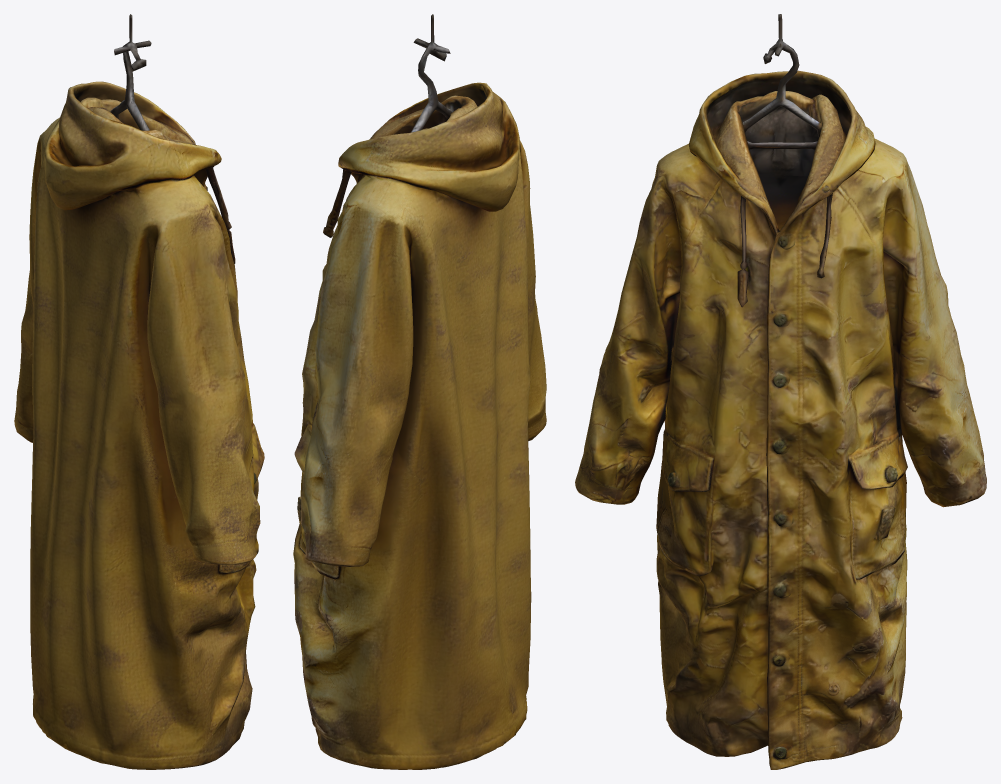
The model's file is scene-coat-raincoat-v03.glb.
3 renders of one model, left to right at view 1: azimuth 30°, elevation 25°; view 2: azimuth 150°, elevation 25°; view 3: azimuth 270°, elevation 25°, orthographic.
Parts seen in each view (by area): view 1: tripo_node_bc3d7e21-a105-46a8-a127-d9cf63c884d7; view 2: tripo_node_bc3d7e21-a105-46a8-a127-d9cf63c884d7; view 3: tripo_node_bc3d7e21-a105-46a8-a127-d9cf63c884d7.
Part boxes in pixels (x1,y1,x2,y2): tripo_node_bc3d7e21-a105-46a8-a127-d9cf63c884d7: (14,14,264,769); tripo_node_bc3d7e21-a105-46a8-a127-d9cf63c884d7: (293,14,546,769); tripo_node_bc3d7e21-a105-46a8-a127-d9cf63c884d7: (575,14,986,769).
Size of the model in its own units: 0.3438 by 1.25 by 0.6598.
1 material, 1 textured.
